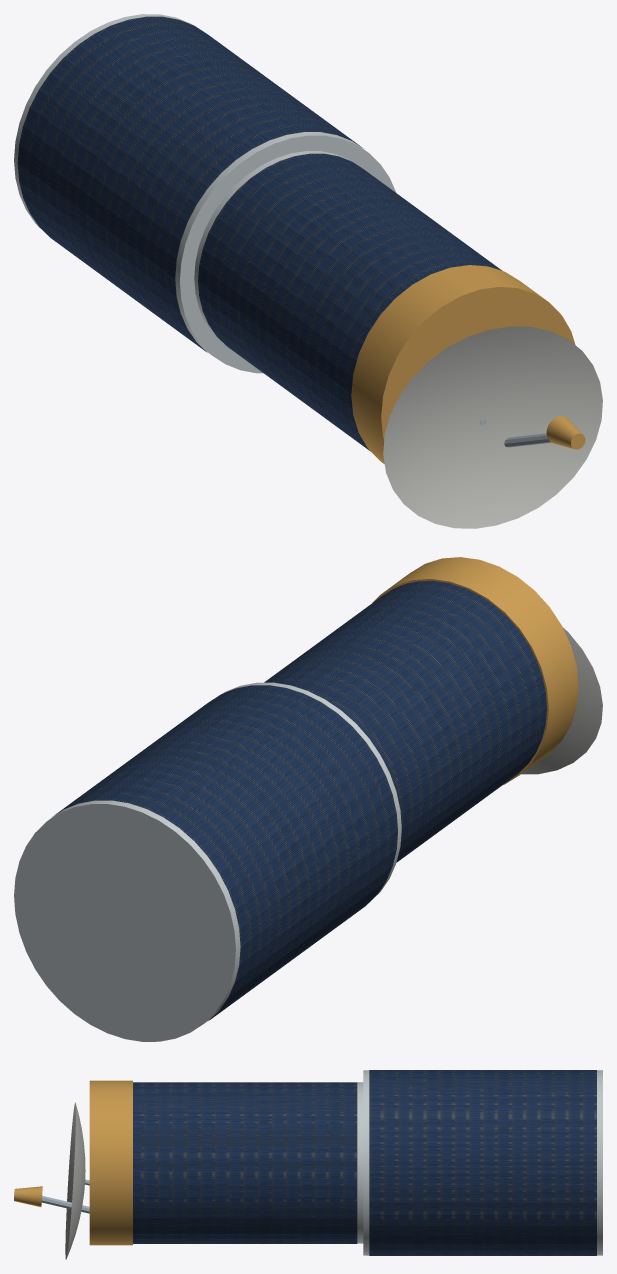
The picture shows the model from 3 angles, top to bottom: view 1: azimuth 30°, elevation 25°; view 2: azimuth 150°, elevation 25°; view 3: azimuth 270°, elevation 25°; orthographic projection. The views are drawn at different scales.
Parts seen in each view (by area): view 1: Body-mounted solar cells (×2), Deck-mounted reflector, Despun equipment deck, Solar drum core (×2), Feed horn; view 2: Body-mounted solar cells (×2), Solar drum core, Despun equipment deck, Deck-mounted reflector; view 3: Body-mounted solar cells (×2), Despun equipment deck, Solar drum core (×2), Deck-mounted reflector, Feed horn, Offset feed boom.
Boxes of the visible parts, x1,y1,x2,y2 form: Body-mounted solar cells (×2): (17,16,502,450); Deck-mounted reflector: (383,326,602,528); Despun equipment deck: (351,265,575,463); Solar drum core (×2): (14,14,396,373); Feed horn: (546,416,585,449); Body-mounted solar cells (×2): (52,581,546,1020); Solar drum core: (14,682,401,1041); Despun equipment deck: (372,557,578,784); Deck-mounted reflector: (521,627,602,774); Body-mounted solar cells (×2): (133,1070,596,1255); Despun equipment deck: (89,1080,132,1245); Solar drum core (×2): (357,1070,602,1255); Deck-mounted reflector: (65,1102,85,1259); Feed horn: (14,1186,42,1206); Offset feed boom: (41,1196,89,1213).
Bounding box in the file's own units: 2.21 × 2.24 × 6.99.
Materials: 5 (1 with a texture image).
